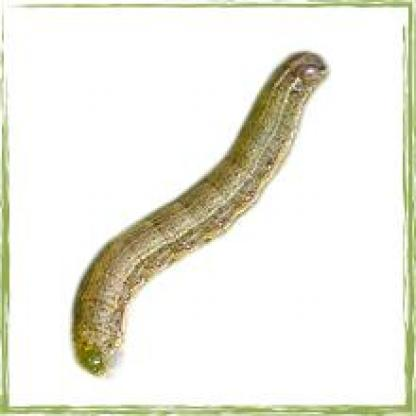armyworm: (66, 49, 328, 376)
